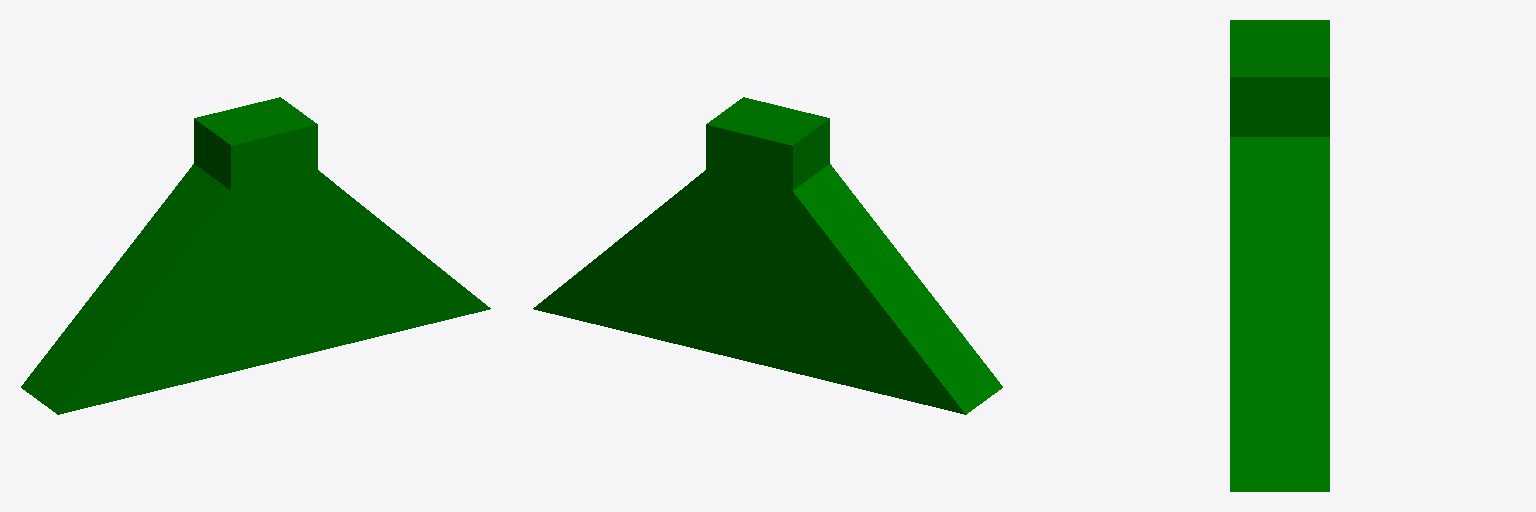
robot.urdf — qr_base:
<?xml version="1.0"?>

<robot name="qr_base">

  <link name="base_link">
    <visual>
      <geometry>
        <mesh filename="package://prostbot_gazebo/meshes/qr_base.stl"/>
      </geometry>
      <material name="green">
        <color rgba="0 0.5 0 1"/>
      </material>
    </visual>
  </link>
</robot>

--- Render facts (derived) ---
Views: 3 orthographic renders of the robot side by side, from view 1: azimuth 30°, elevation 25°; view 2: azimuth 150°, elevation 25°; view 3: azimuth 270°, elevation 25°.
Model qr_base with 1 links and 0 joints (none), rooted at base_link, posed all joints at 0.
Visible links, largest first — view 1: base_link; view 2: base_link; view 3: base_link.
Boxes of the visible links, <box> form: base_link: <box>21,97,490,414</box>; base_link: <box>533,97,1002,414</box>; base_link: <box>1230,20,1329,491</box>.
Bounding box of the posed robot: 1000 × 150 × 500 m (x, y, z).
1 mesh visuals loaded from 1 distinct referenced files (1 binary STL).